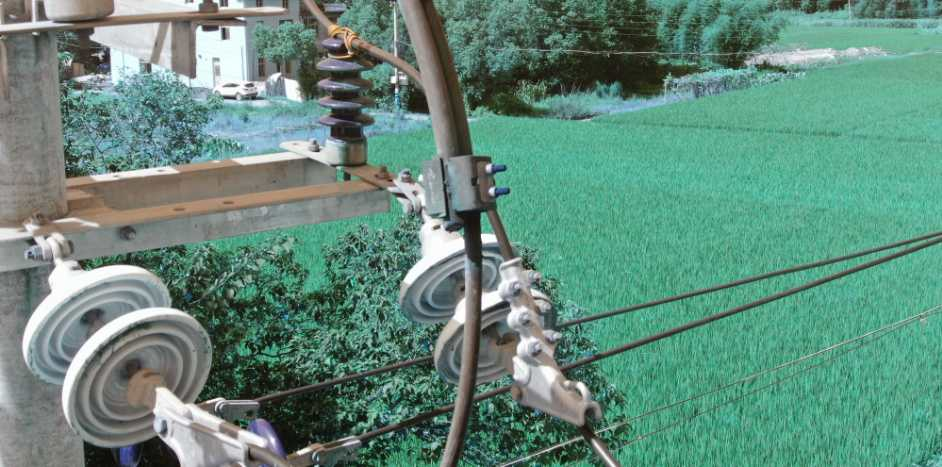severe_soiling_no_discharge_whole: (14, 252, 224, 454), (395, 217, 563, 392), (302, 34, 381, 167)
